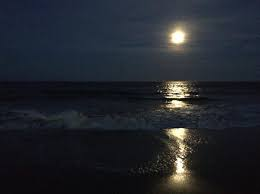moon: (168, 28, 188, 48)
